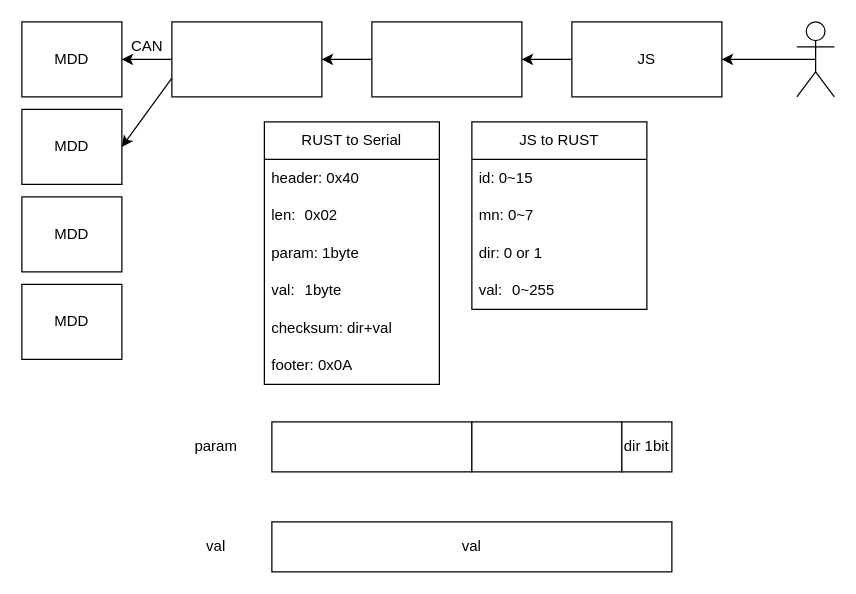
The diagram is 856 pixels wide and 594 high, and some of its shapes have lost their labels. The centre of each missing label's shape, as x and y in pixels:
"Actor" belongs at (815,59).
"COM SL" belongs at (246,59).
"id 4bit" belongs at (371,446).
"mn 3bit" belongs at (546,446).
"RUST" belongs at (446,59).
